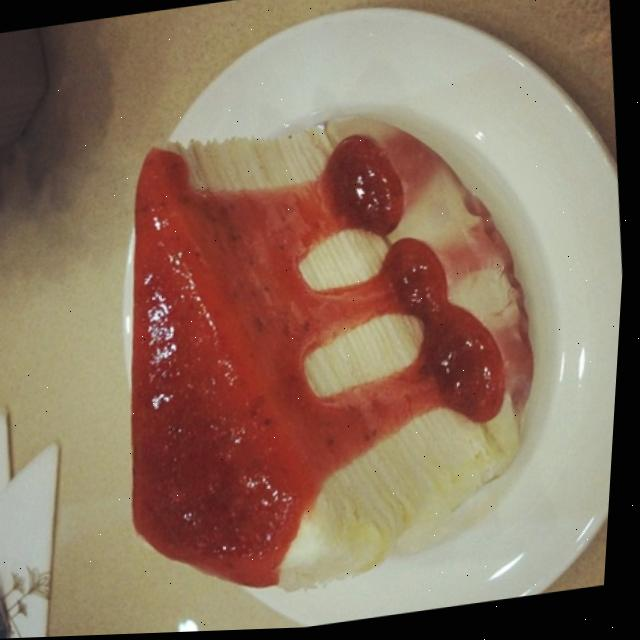蛋糕甜品: (15, 0, 640, 639)
